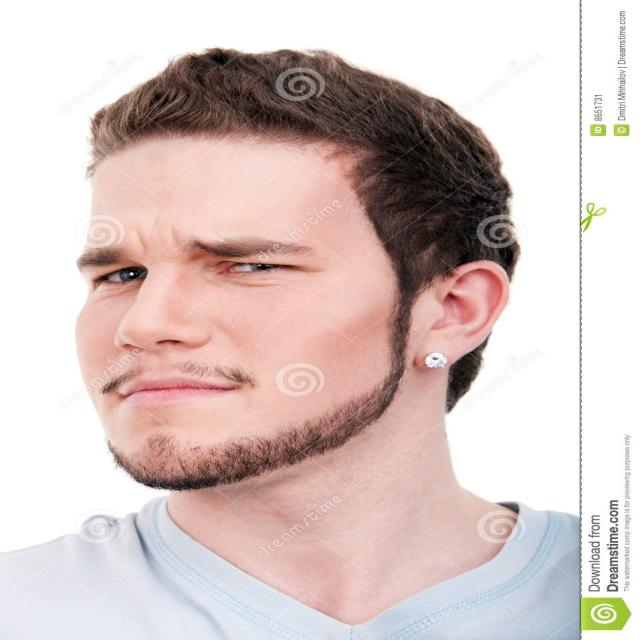front: (60, 217, 406, 443)
